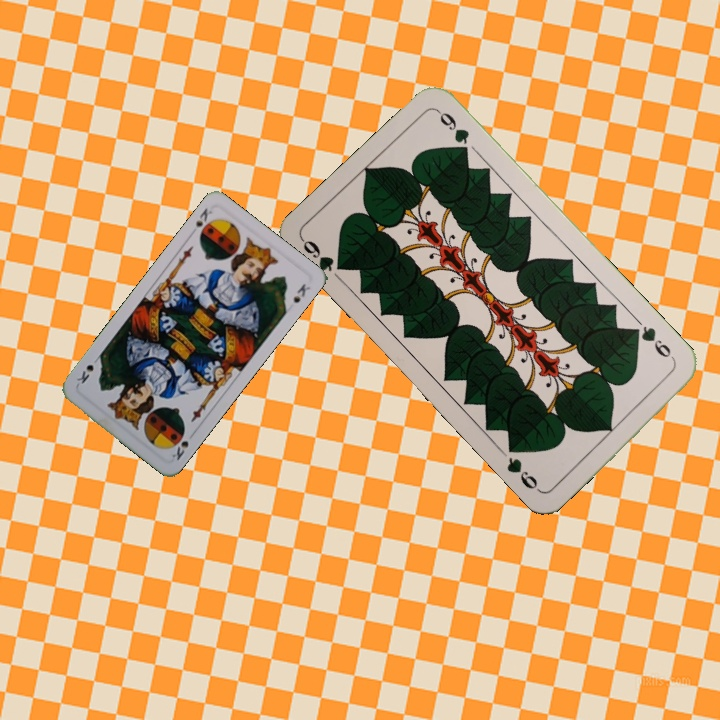G9: (627, 321, 678, 365), (297, 235, 351, 274)
SK: (168, 428, 198, 463), (187, 204, 215, 238)
